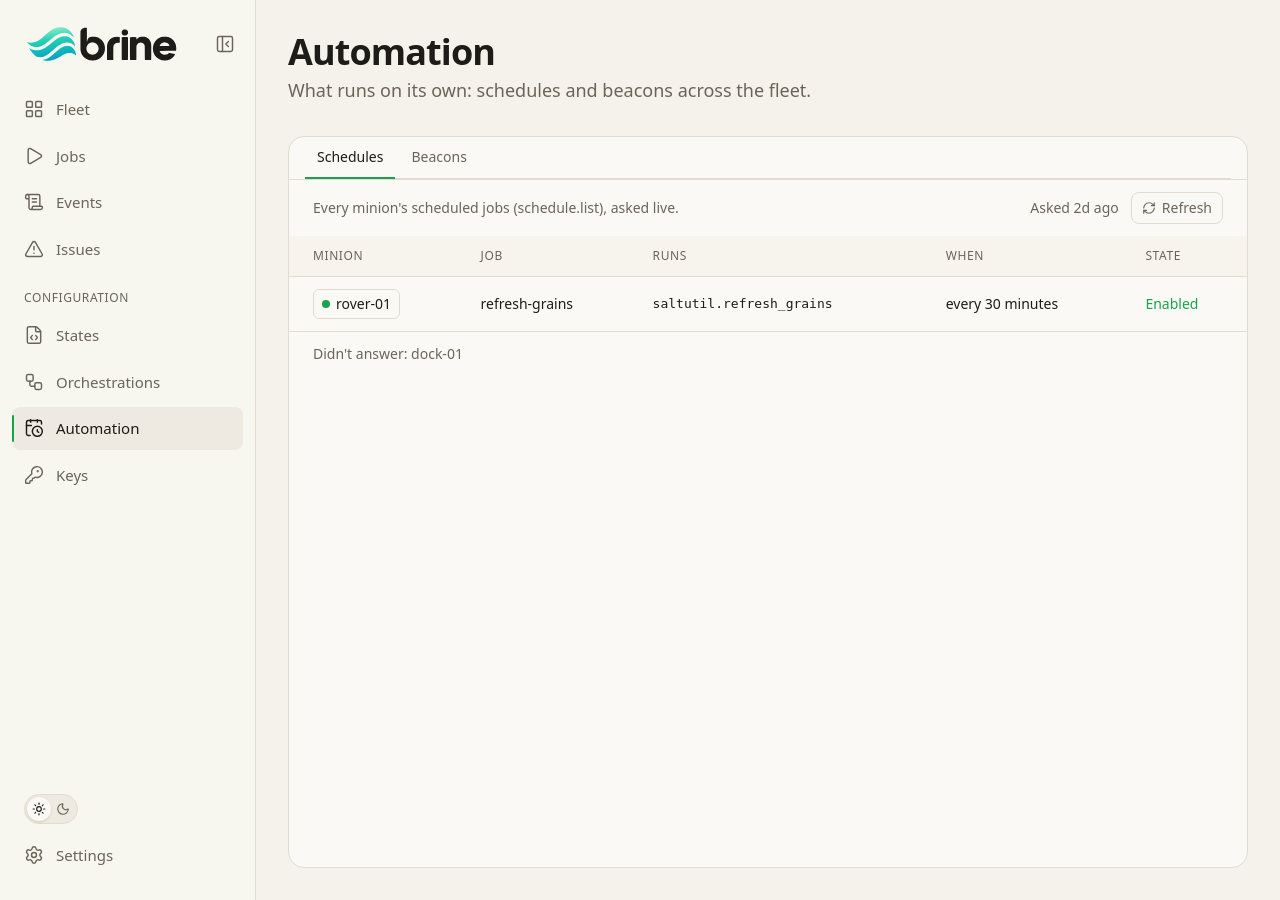
it: Automation page › lists schedules across the fleet and who did not answer
Expected: the text "refresh-grains" is shown, [465,276,637,331]
Expected: the text "every 30 minutes" is shown, [930,276,1130,331]
Step 1. Click the tab "Beacons" → point(439, 158), box [399,137,479,179]
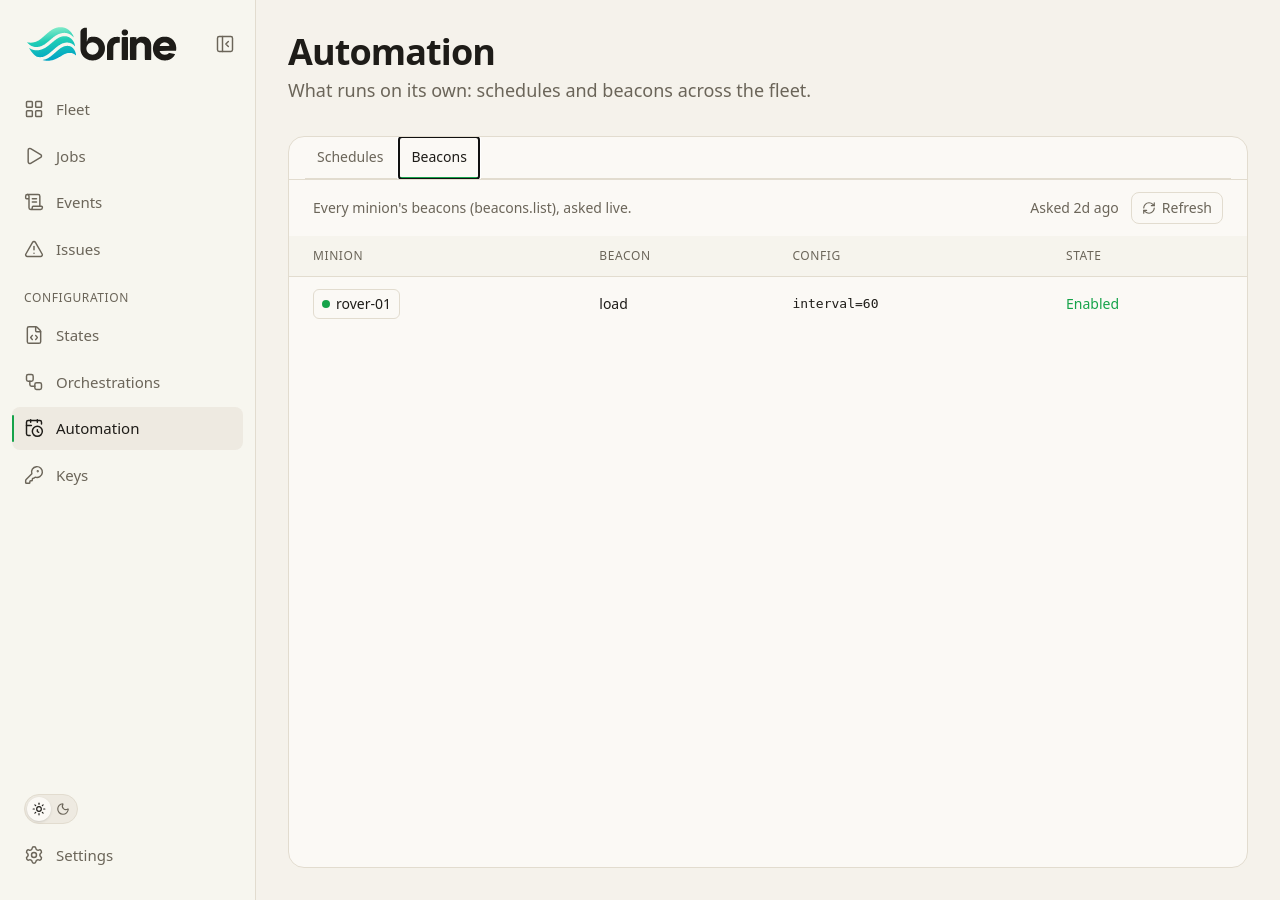
Now the text "interval=60" is shown, box [776,276,1050,331]
